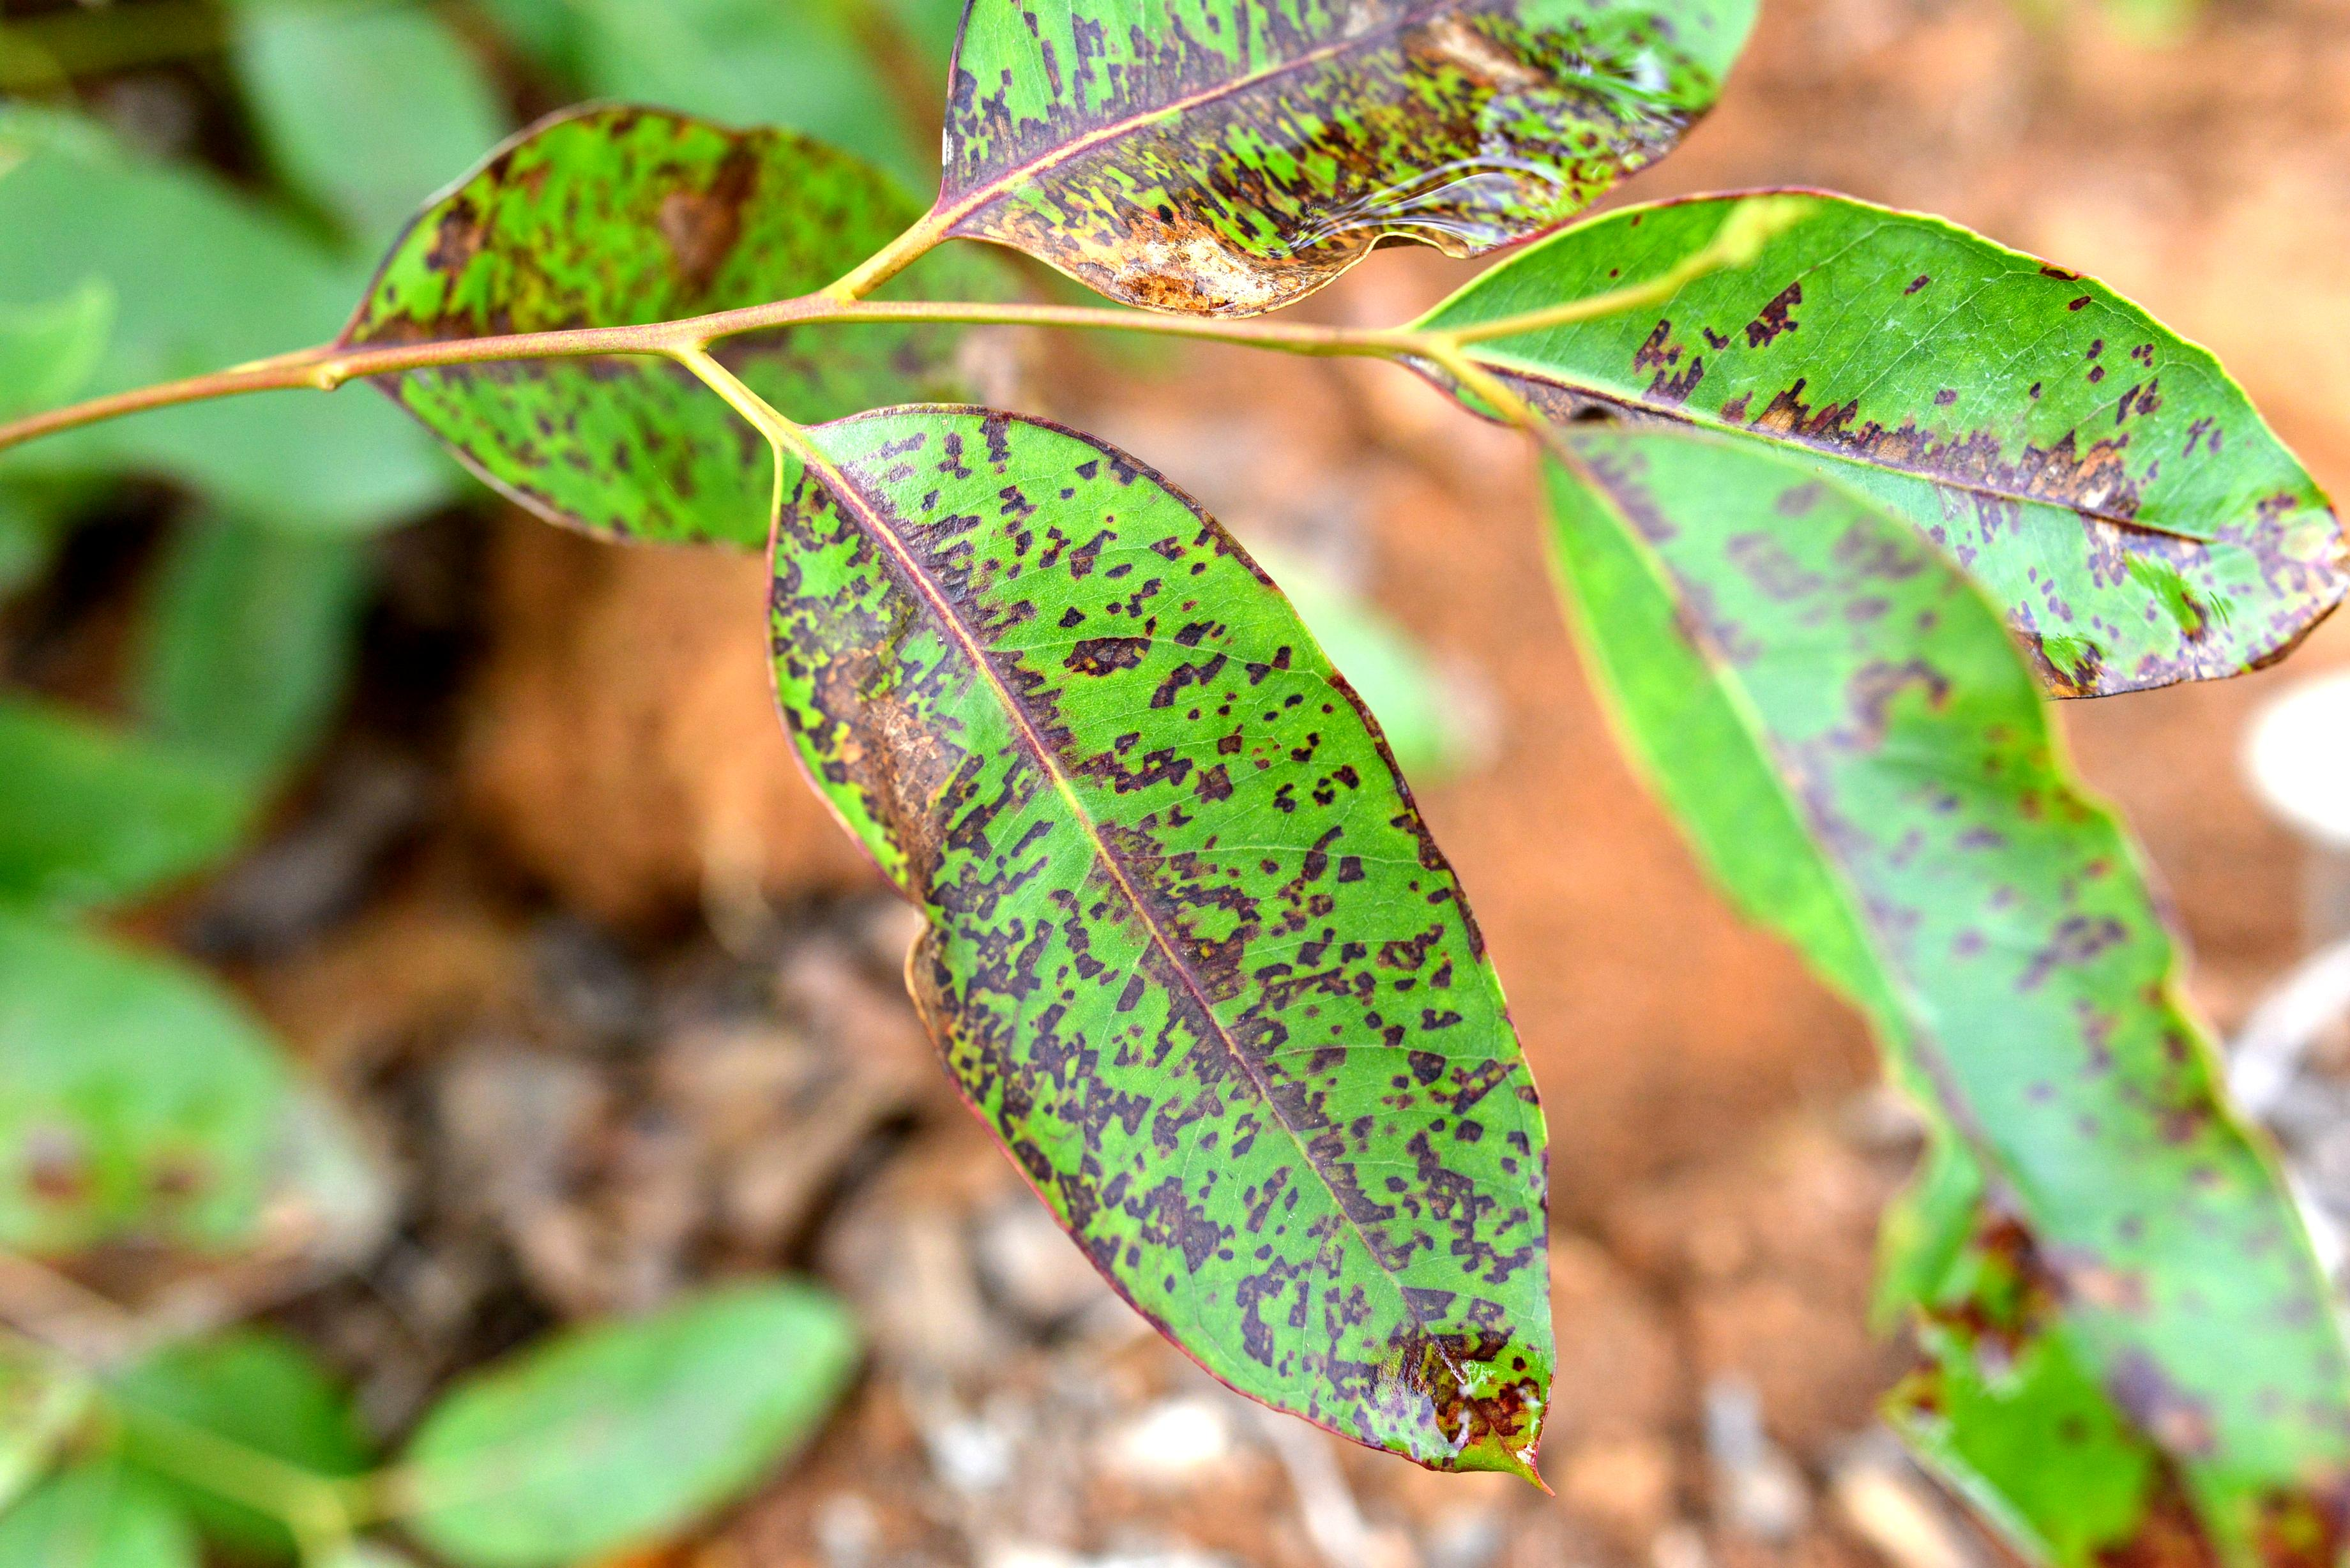Xanthomonas: (1591, 415, 2350, 1568), (770, 402, 1570, 1482), (948, 0, 1753, 313), (390, 112, 924, 380)
